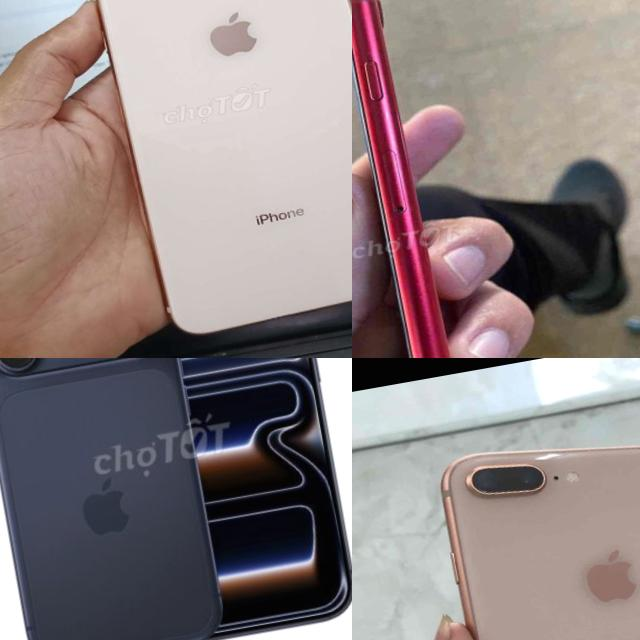gen_17: (0, 358, 231, 640)
gen_7_8: (80, 0, 352, 346), (417, 407, 640, 640), (352, 0, 487, 358)
